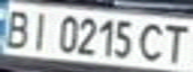0: (51, 11, 81, 54)
1: (93, 16, 118, 58)
2: (75, 14, 100, 57)
5: (112, 17, 139, 60)
B: (0, 6, 36, 49)
C: (136, 20, 169, 63)
I: (24, 8, 57, 52)
T: (157, 20, 193, 65)
